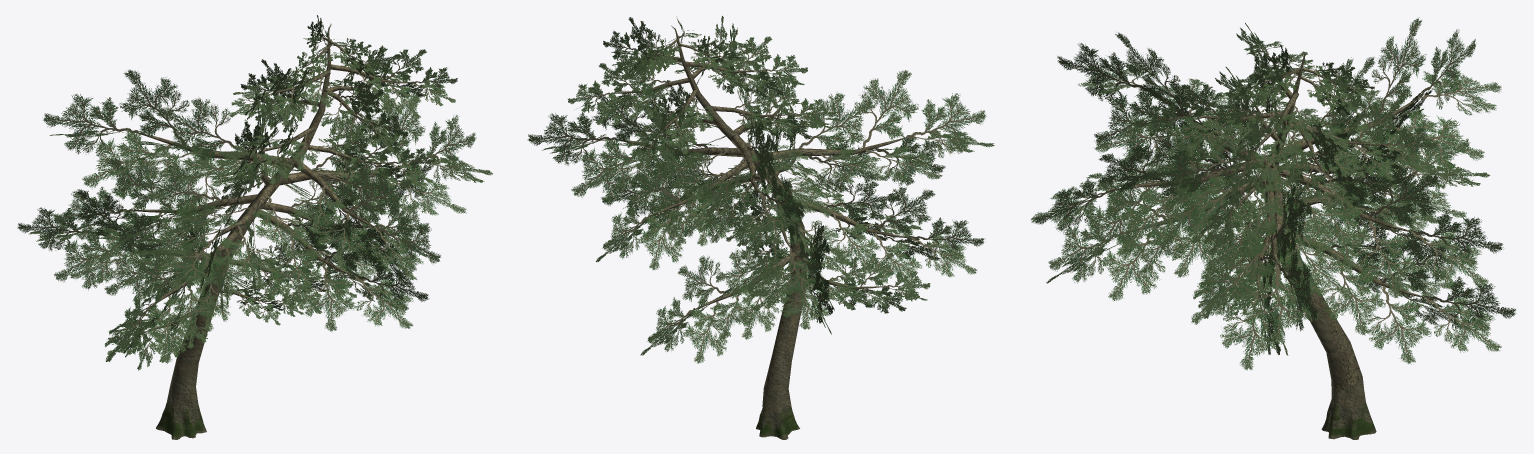
The model's file is kiefer.obj.
3 views of the same model, side by side, from view 1: azimuth 30°, elevation 25°; view 2: azimuth 150°, elevation 25°; view 3: azimuth 270°, elevation 25° (orthographic). The views are drawn at different scales.
Parts seen in each view (by area): view 1: Mesh1 Group2 Group1 Model, Mesh187 Groupe_4_170 Ast2_16 Group1 Model, Mesh183 Groupe_4_166 Ast2_16 Group1 Model, Mesh185 Groupe_4_168 Ast2_16 Group1 Model, Mesh184 Groupe_4_167 Ast2_16 Group1 Model, Mesh186 Groupe_4_169 Ast2_16 Group1 Model, Mesh66 Groupe_4_60 Ast2_6 Group1 Model, Mesh157 Groupe_4_142 Ast2_15 Group1 Model, Mesh172 Groupe_4_156 Ast2_1_1 Group1 Model, Mesh158 Groupe_4_143 Ast2_15 Group1 Model, Mesh229 Groupe_4_208 Ast2_20 Group1 Model, Mesh156 Groupe_4_141 Ast2_15 Group1 Model (+59 smaller); view 2: Mesh1 Group2 Group1 Model, Mesh42 Groupe_4_38 Ast2_4 Group1 Model, Mesh173 Groupe_4_157 Ast2_1_1 Group1 Model, Mesh172 Groupe_4_156 Ast2_1_1 Group1 Model, Mesh40 Groupe_4_36 Ast2_4 Group1 Model, Mesh44 Groupe_4_40 Ast2_4 Group1 Model, Mesh130 Groupe_4_118 Ast2_12 Group1 Model, Mesh124 Groupe_4_112 Ast2_12 Group1 Model, Mesh178 Groupe_4_161 Ast2_16 Group1 Model, Mesh36 Groupe_4_32 Ast2_4 Group1 Model, Mesh37 Groupe_4_33 Ast2_4 Group1 Model, Mesh125 Groupe_4_113 Ast2_12 Group1 Model (+60 smaller); view 3: Mesh1 Group2 Group1 Model, Mesh167 Groupe_4_151 Ast2_1_1 Group1 Model, Mesh179 Groupe_4_162 Ast2_16 Group1 Model, Mesh201 Groupe_4_182 Ast2_18 Group1 Model, Mesh102 Groupe_4_92 Ast2_10 Group1 Model, Mesh185 Groupe_4_168 Ast2_16 Group1 Model, Mesh225 Groupe_4_204 Ast2_20 Group1 Model, Mesh207 Groupe_4_188 Ast2_18 Group1 Model, Mesh168 Groupe_4_152 Ast2_1_1 Group1 Model, Mesh103 Groupe_4_93 Ast2_10 Group1 Model, Mesh162 Groupe_4_147 Ast2_15 Group1 Model, Mesh228 Groupe_4_207 Ast2_20 Group1 Model (+77 smaller).
Part boxes in pixels (left/top/right/bottom): Mesh1 Group2 Group1 Model: left=156, top=24, right=331, bottom=439; Mesh187 Groupe_4_170 Ast2_16 Group1 Model: left=157, top=98, right=245, bottom=161; Mesh183 Groupe_4_166 Ast2_16 Group1 Model: left=43, top=94, right=138, bottom=156; Mesh185 Groupe_4_168 Ast2_16 Group1 Model: left=119, top=69, right=189, bottom=142; Mesh184 Groupe_4_167 Ast2_16 Group1 Model: left=82, top=128, right=171, bottom=199; Mesh186 Groupe_4_169 Ast2_16 Group1 Model: left=147, top=143, right=234, bottom=213; Mesh66 Groupe_4_60 Ast2_6 Group1 Model: left=141, top=164, right=220, bottom=214; Mesh157 Groupe_4_142 Ast2_15 Group1 Model: left=301, top=262, right=355, bottom=331; Mesh172 Groupe_4_156 Ast2_1_1 Group1 Model: left=415, top=115, right=476, bottom=184; Mesh158 Groupe_4_143 Ast2_15 Group1 Model: left=268, top=235, right=323, bottom=302; Mesh229 Groupe_4_208 Ast2_20 Group1 Model: left=349, top=167, right=412, bottom=226; Mesh156 Groupe_4_141 Ast2_15 Group1 Model: left=355, top=275, right=413, bottom=328; Mesh1 Group2 Group1 Model: left=671, top=25, right=807, bottom=439; Mesh42 Groupe_4_38 Ast2_4 Group1 Model: left=854, top=70, right=918, bottom=147; Mesh173 Groupe_4_157 Ast2_1_1 Group1 Model: left=571, top=136, right=645, bottom=204; Mesh172 Groupe_4_156 Ast2_1_1 Group1 Model: left=527, top=112, right=616, bottom=165; Mesh40 Groupe_4_36 Ast2_4 Group1 Model: left=906, top=93, right=986, bottom=157; Mesh44 Groupe_4_40 Ast2_4 Group1 Model: left=799, top=93, right=874, bottom=157; Mesh130 Groupe_4_118 Ast2_12 Group1 Model: left=874, top=186, right=935, bottom=234; Mesh124 Groupe_4_112 Ast2_12 Group1 Model: left=867, top=232, right=921, bottom=291; Mesh178 Groupe_4_161 Ast2_16 Group1 Model: left=739, top=193, right=801, bottom=244; Mesh36 Groupe_4_32 Ast2_4 Group1 Model: left=865, top=145, right=942, bottom=181; Mesh37 Groupe_4_33 Ast2_4 Group1 Model: left=811, top=147, right=887, bottom=183; Mesh125 Groupe_4_113 Ast2_12 Group1 Model: left=826, top=214, right=880, bottom=274; Mesh1 Group2 Group1 Model: left=1263, top=53, right=1376, bottom=439; Mesh167 Groupe_4_151 Ast2_1_1 Group1 Model: left=1240, top=264, right=1316, bottom=344; Mesh179 Groupe_4_162 Ast2_16 Group1 Model: left=1380, top=107, right=1484, bottom=171; Mesh201 Groupe_4_182 Ast2_18 Group1 Model: left=1350, top=220, right=1418, bottom=298; Mesh102 Groupe_4_92 Ast2_10 Group1 Model: left=1363, top=285, right=1431, bottom=364; Mesh185 Groupe_4_168 Ast2_16 Group1 Model: left=1371, top=17, right=1426, bottom=119; Mesh225 Groupe_4_204 Ast2_20 Group1 Model: left=1117, top=183, right=1185, bottom=251; Mesh207 Groupe_4_188 Ast2_18 Group1 Model: left=1369, top=166, right=1441, bottom=228; Mesh168 Groupe_4_152 Ast2_1_1 Group1 Model: left=1197, top=242, right=1276, bottom=312; Mesh103 Groupe_4_93 Ast2_10 Group1 Model: left=1317, top=257, right=1385, bottom=335; Mesh162 Groupe_4_147 Ast2_15 Group1 Model: left=1100, top=228, right=1165, bottom=301; Mesh228 Groupe_4_207 Ast2_20 Group1 Model: left=1087, top=187, right=1151, bottom=257.
Size of the model in its own units: 7.45 by 6.42 by 6.36.
